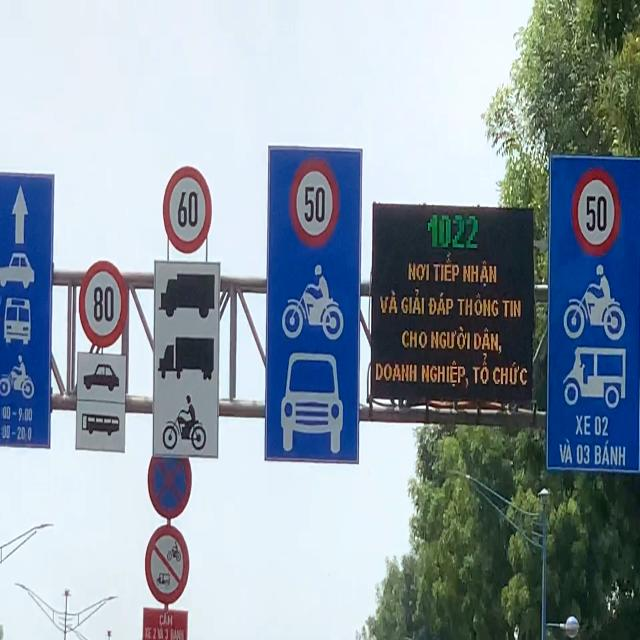P.127: (162, 159, 217, 254), (571, 162, 621, 258), (79, 256, 127, 351), (289, 157, 339, 248)
